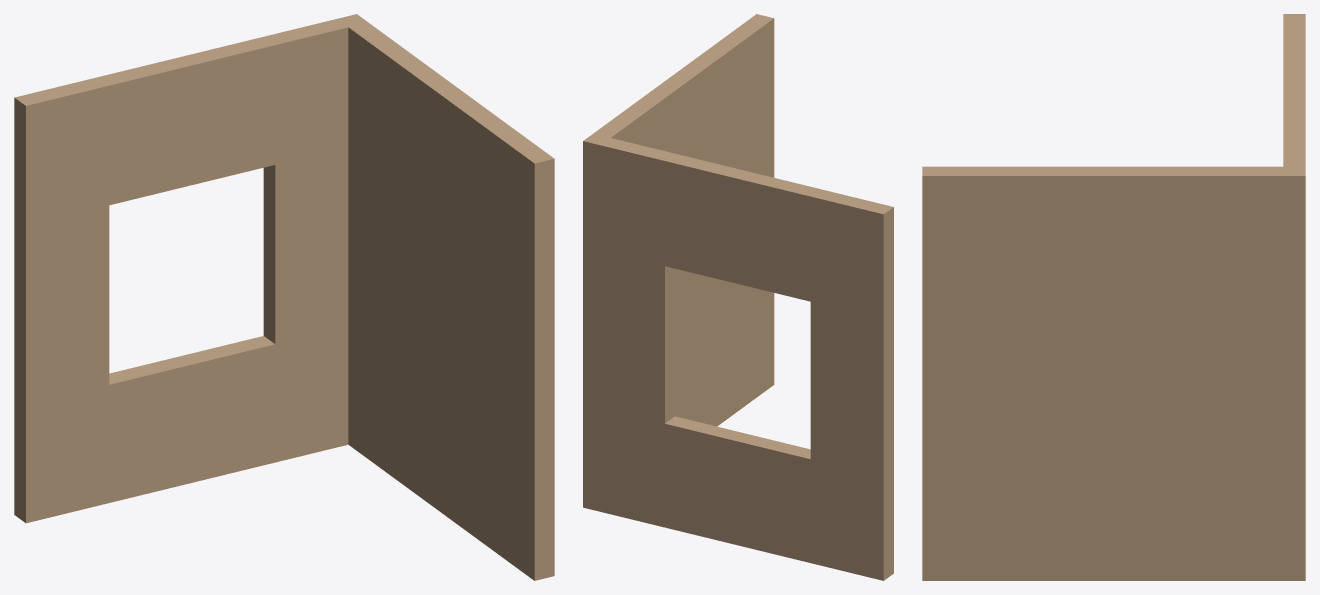
File: Wall2_C1_10.fbx
3 views of the same model, side by side, from view 1: azimuth 30°, elevation 25°; view 2: azimuth 150°, elevation 25°; view 3: azimuth 270°, elevation 25° (orthographic). The views are drawn at different scales.
Visible parts, largest first — view 1: Wall2_C1_10; view 2: Wall2_C1_10; view 3: Wall2_C1_10.
Part boxes in pixels (x1,y1,x2,y2): Wall2_C1_10: (14, 14, 554, 580); Wall2_C1_10: (583, 14, 893, 580); Wall2_C1_10: (922, 14, 1305, 580).
Bounding box in the file's own units: 258 × 300 × 258.
